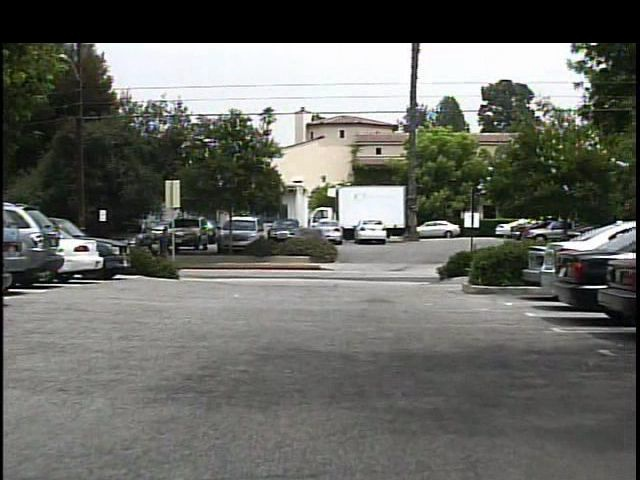person: (156, 224, 179, 273)
